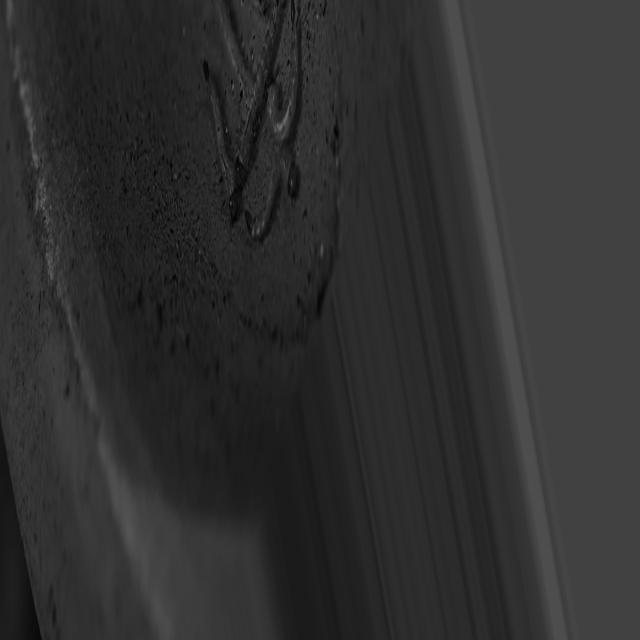larvas: (259, 5, 320, 151), (233, 7, 282, 188), (200, 54, 243, 222), (244, 141, 303, 255), (215, 0, 255, 114)
